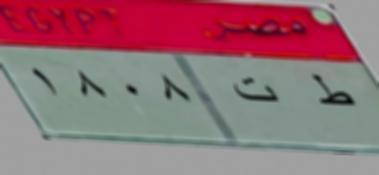0: (123, 80, 143, 101)
1: (30, 61, 60, 101)
8: (74, 65, 108, 106), (158, 71, 190, 112)
Taa: (305, 68, 354, 116)
taa: (230, 72, 283, 108)
